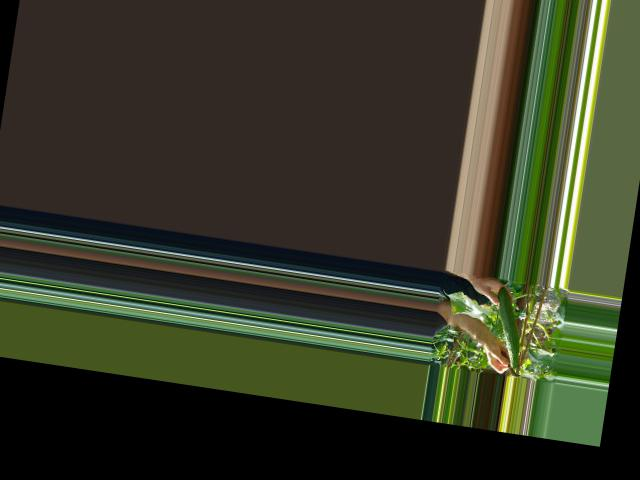cucumber: (487, 286, 528, 368)
